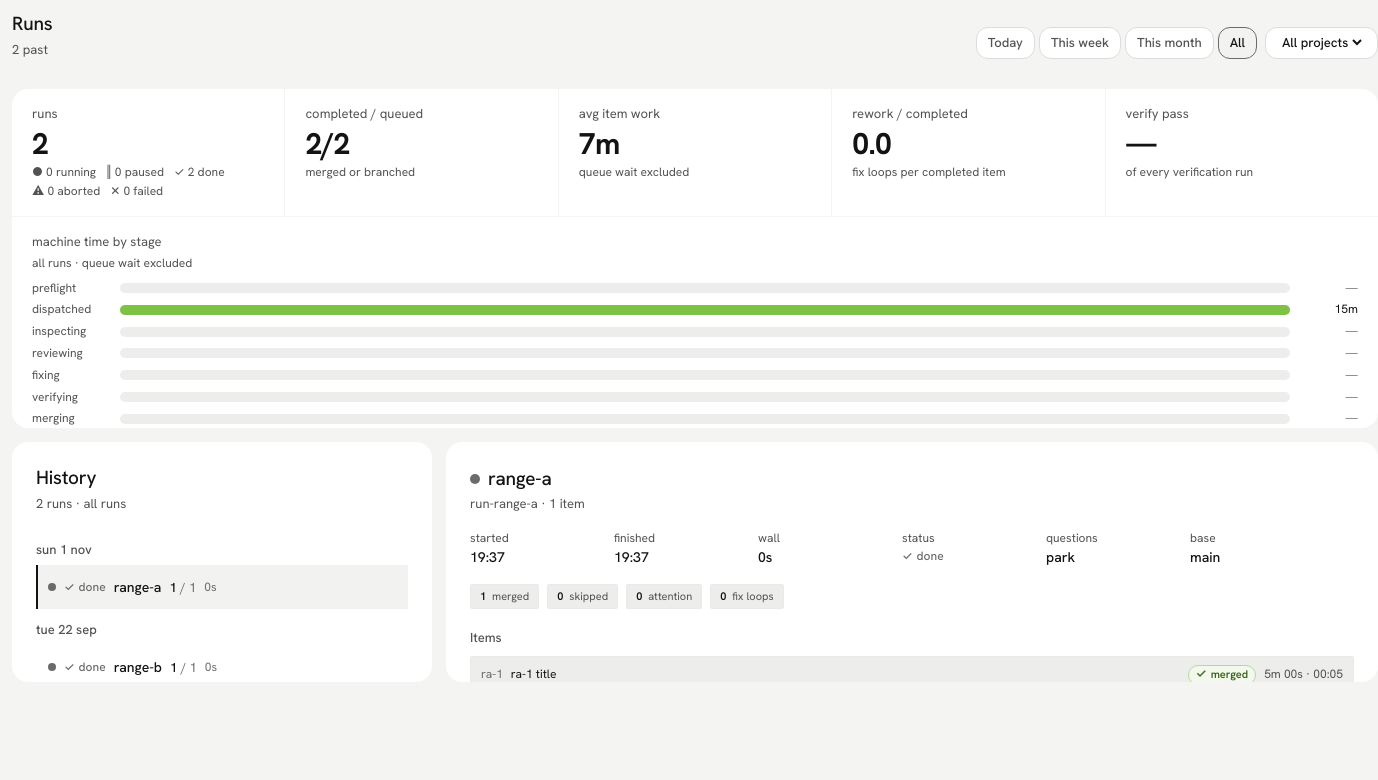
Test: RunsView › composes the range filter with the project filter down to the range-empty state
expect the element with test id "runs-list" is shown: met, box [12,442,432,682]
Click the button "Today". click: (1005, 43)
box: [976,27,1035,59]
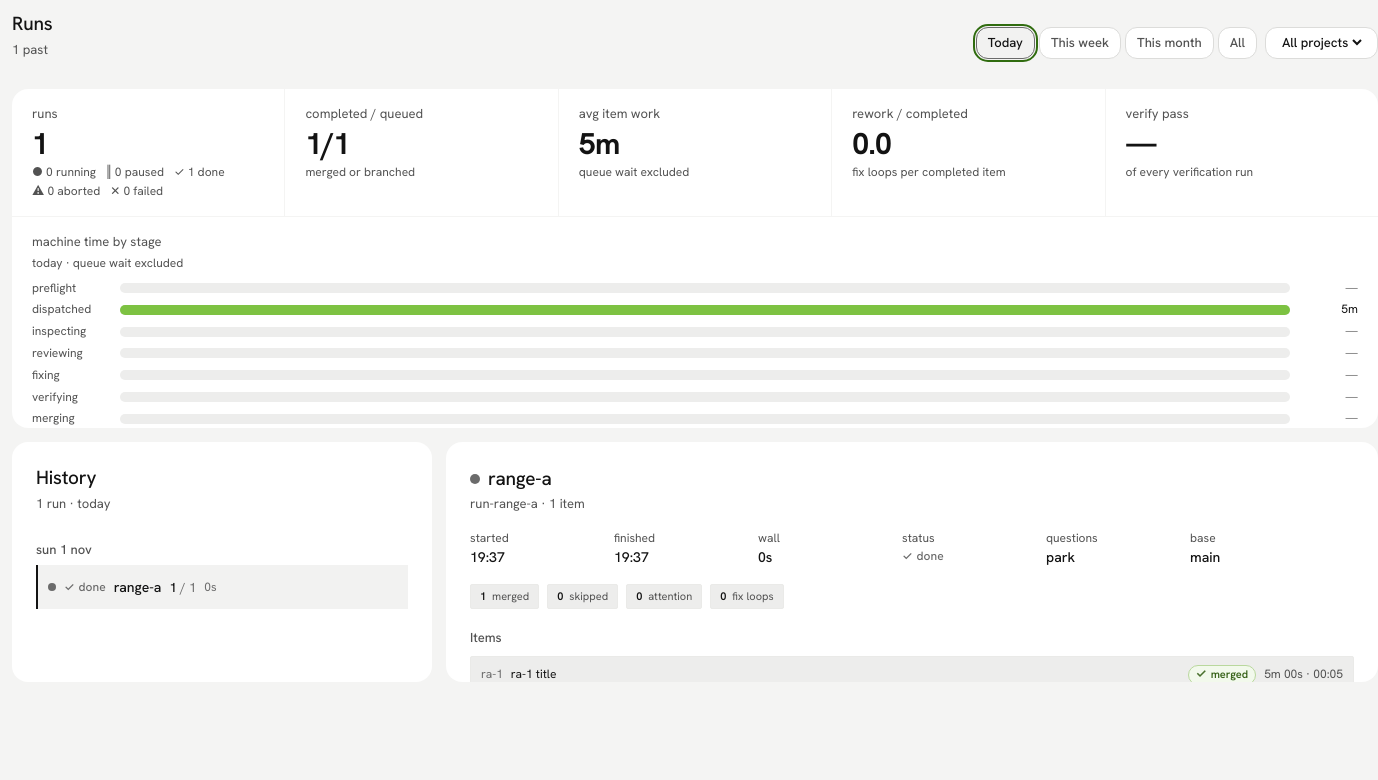
Select "range-b" in the dropdown named "Project". click: (1322, 43)
box: [1278,33,1365,52]
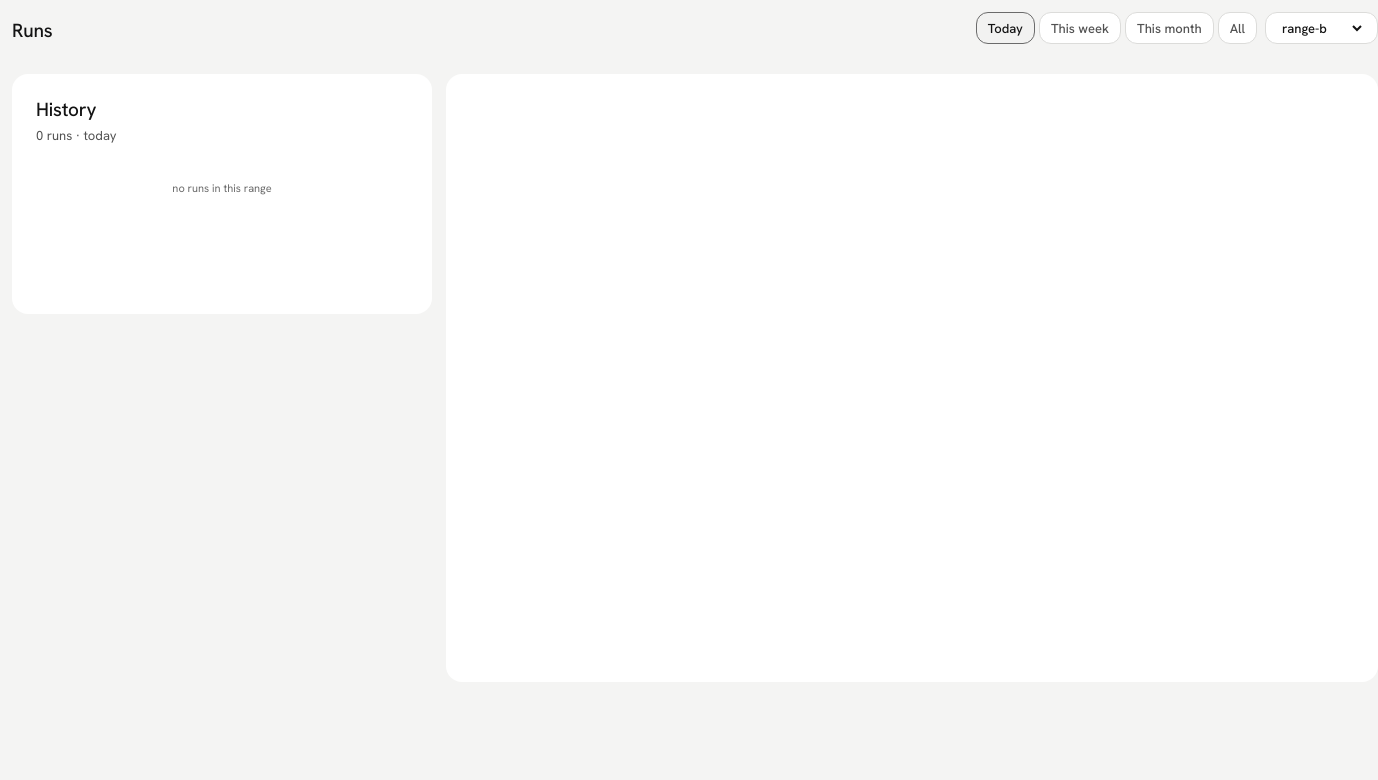
expect the text with test id "runs-empty-range" reads "no runs in this range": met, box [172,181,272,195]
expect the element with test id "runs-tile-runs" is gone: met
expect the element with test id "runs-tile-avg-item" is gone: met
